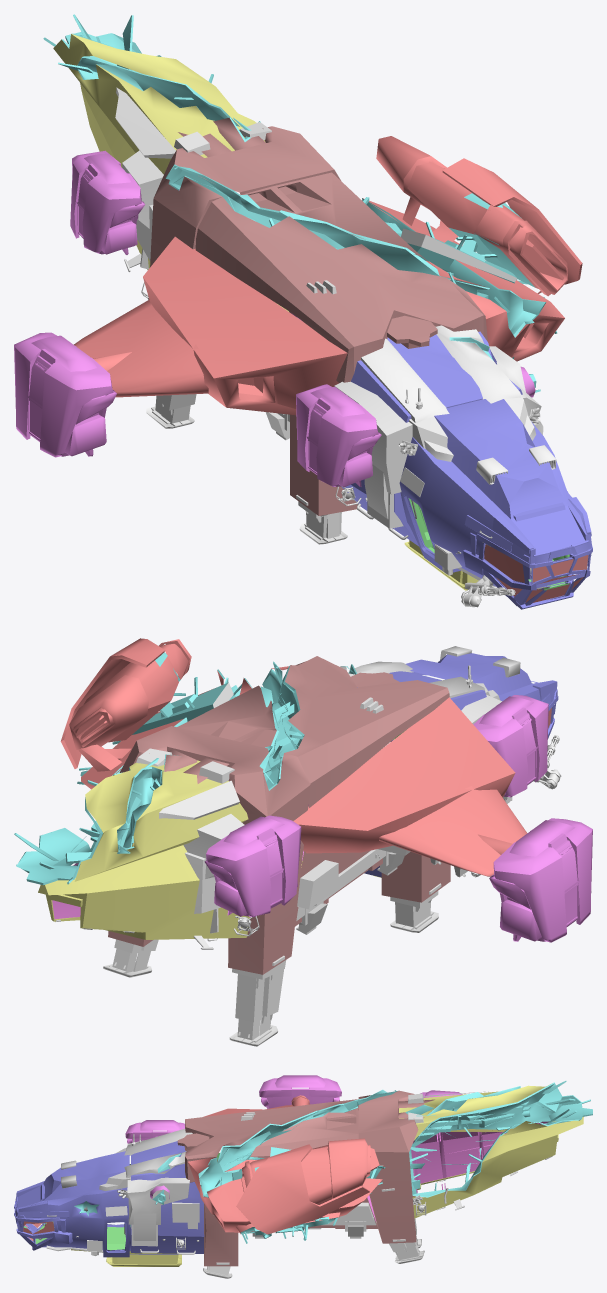
File: SM_vehicle_dropship_raiders_A_debris_front.gltf
3 views of the same model, one above another, from view 1: azimuth 30°, elevation 25°; view 2: azimuth 150°, elevation 25°; view 3: azimuth 270°, elevation 25° (orthographic). The views are drawn at different scales.
Parts seen in each view (by area): view 1: SM_vehicle_dropship_raiders_A_debris_front; view 2: SM_vehicle_dropship_raiders_A_debris_front; view 3: SM_vehicle_dropship_raiders_A_debris_front.
Part boxes in pixels (box(x1,y1,x2,y2)): SM_vehicle_dropship_raiders_A_debris_front: box(14, 14, 592, 609); SM_vehicle_dropship_raiders_A_debris_front: box(14, 638, 592, 1046); SM_vehicle_dropship_raiders_A_debris_front: box(14, 1075, 592, 1278).
Size of the model in its own units: 17.36 by 9.71 by 28.93.
